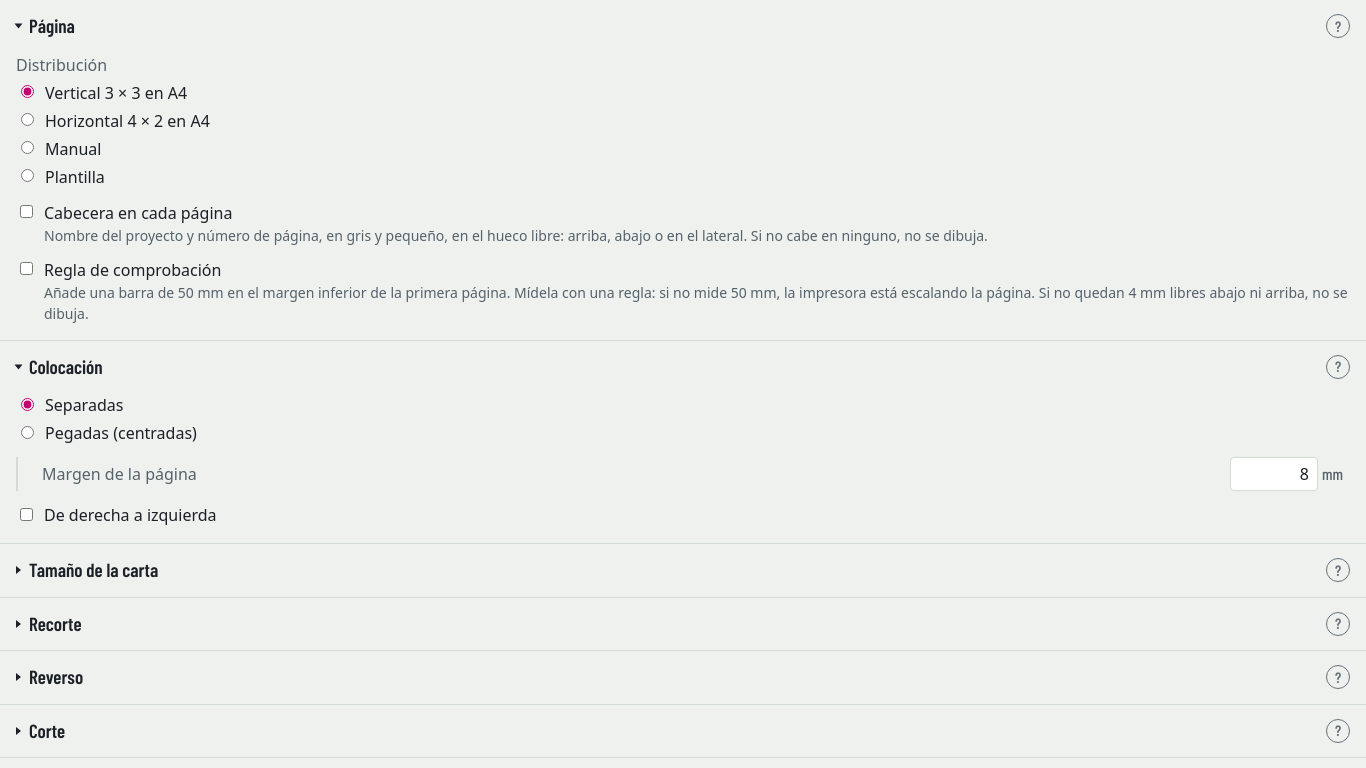
Test case: SettingsPanel › muestra columnas y filas solo en modo manual
The image size is (1366, 768).
Expected: the field labelled "Columnas" is not shown
Click the radio button labelled "Manual". click: (28, 148)
box: top-left (21, 141), bottom-right (34, 154)
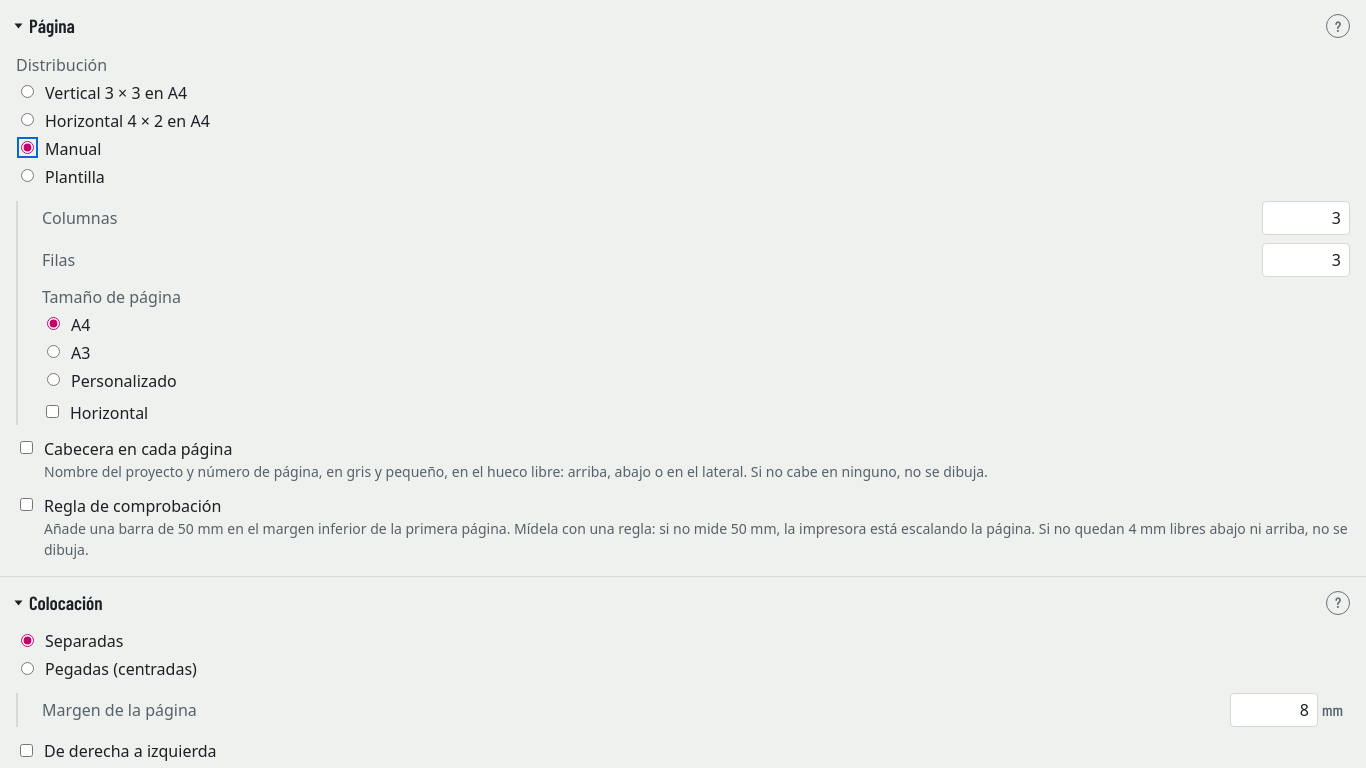
Now the field labelled "Columnas" holds "3", box top-left (1262, 200), bottom-right (1350, 234)
